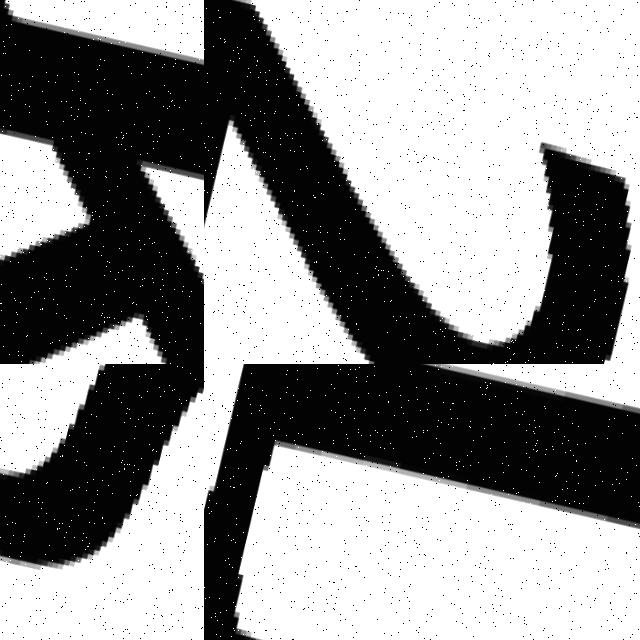2: (204, 0, 640, 364)
K: (0, 0, 204, 364)
L: (204, 364, 640, 640)
S: (0, 364, 204, 640)
